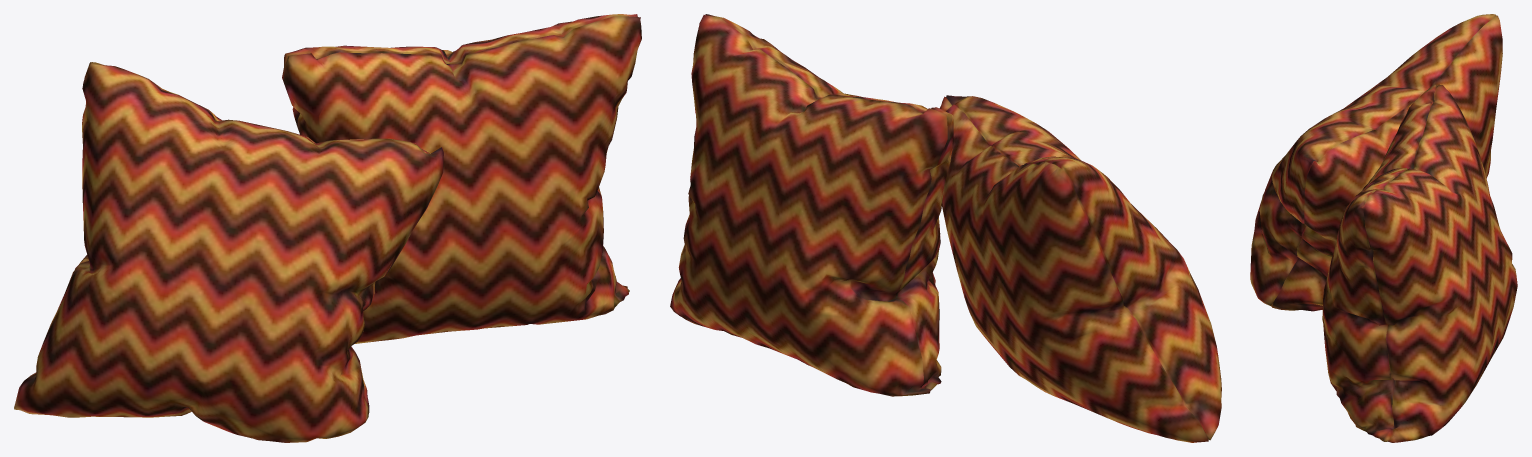
File: throw_pillows_01.glb
The picture shows the model from 3 angles, left to right: view 1: azimuth 30°, elevation 25°; view 2: azimuth 150°, elevation 25°; view 3: azimuth 270°, elevation 25°; orthographic projection. The views are drawn at different scales.
Parts seen in each view (by area): view 1: throw_pillows_01_pillow01, throw_pillows_01_pillow02; view 2: throw_pillows_01_pillow02, throw_pillows_01_pillow01; view 3: throw_pillows_01_pillow02, throw_pillows_01_pillow01.
Part boxes in pixels (x1=…): throw_pillows_01_pillow01: x1=14, y1=62, x2=443, y2=442; throw_pillows_01_pillow02: x1=282, y1=14, x2=641, y2=343; throw_pillows_01_pillow02: x1=670, y1=14, x2=953, y2=396; throw_pillows_01_pillow01: x1=939, y1=95, x2=1221, y2=442; throw_pillows_01_pillow02: x1=1322, y1=84, x2=1517, y2=442; throw_pillows_01_pillow01: x1=1250, y1=14, x2=1502, y2=311.
Size of the model in its own units: 0.9401 by 0.4502 by 0.4519.
Materials: 1 (1 with a texture image).
